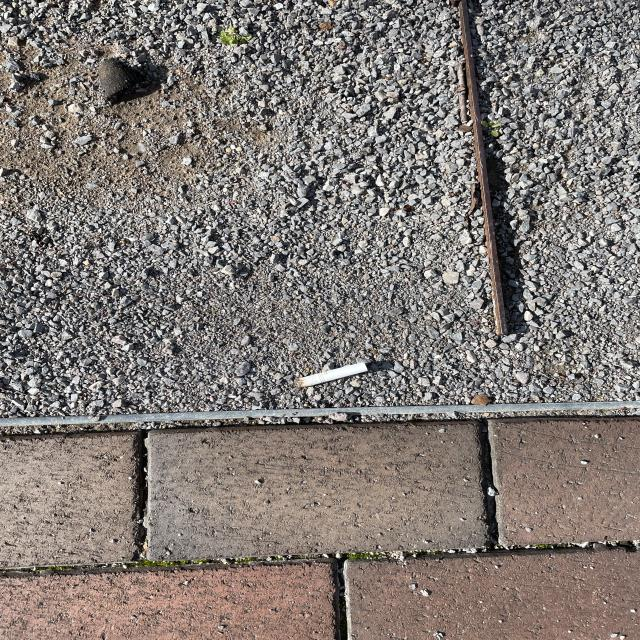cigarette: (282, 352, 386, 393)
trash-zQNu: (275, 354, 386, 393)
